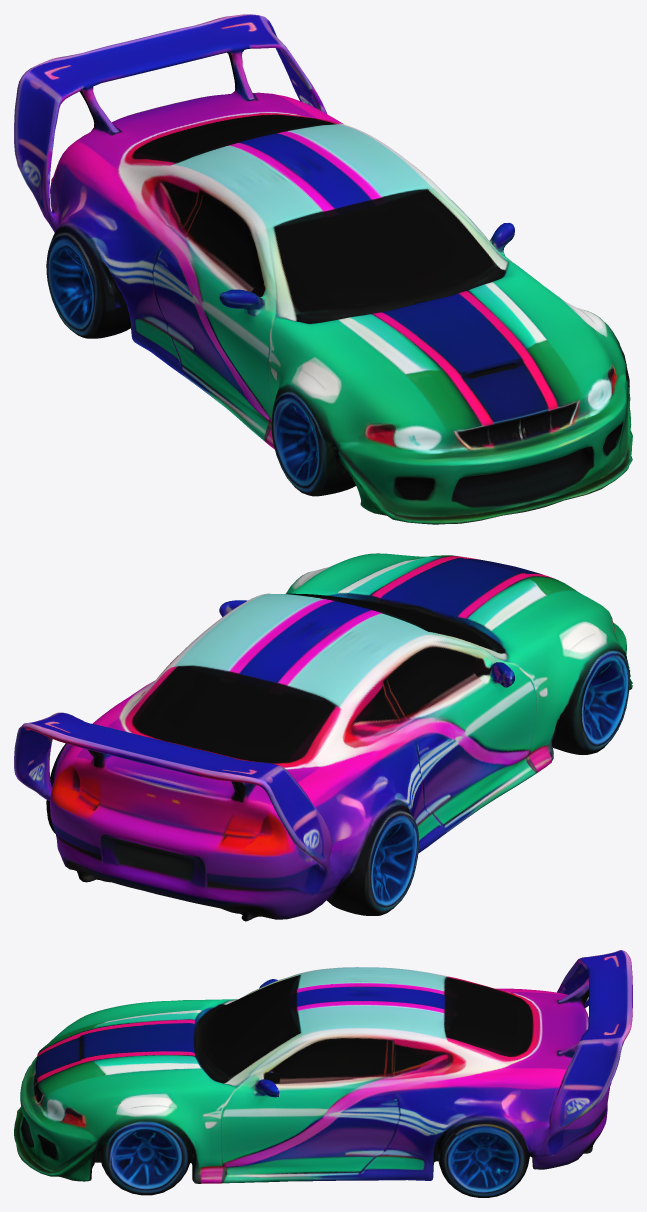
File: car4.glb
3 renders of one model, top to bottom at view 1: azimuth 30°, elevation 25°; view 2: azimuth 150°, elevation 25°; view 3: azimuth 270°, elevation 25°, orthographic. The views are drawn at different scales.
Visible parts, largest first — view 1: Object_2; view 2: Object_2; view 3: Object_2.
Part boxes in pixels (x1,y1,x2,y2): Object_2: [14, 14, 632, 524]; Object_2: [14, 553, 632, 921]; Object_2: [14, 950, 632, 1197].
Size of the model in its own units: 0.8888 by 0.5032 by 1.9.
Materials: 1 (1 with a texture image).
